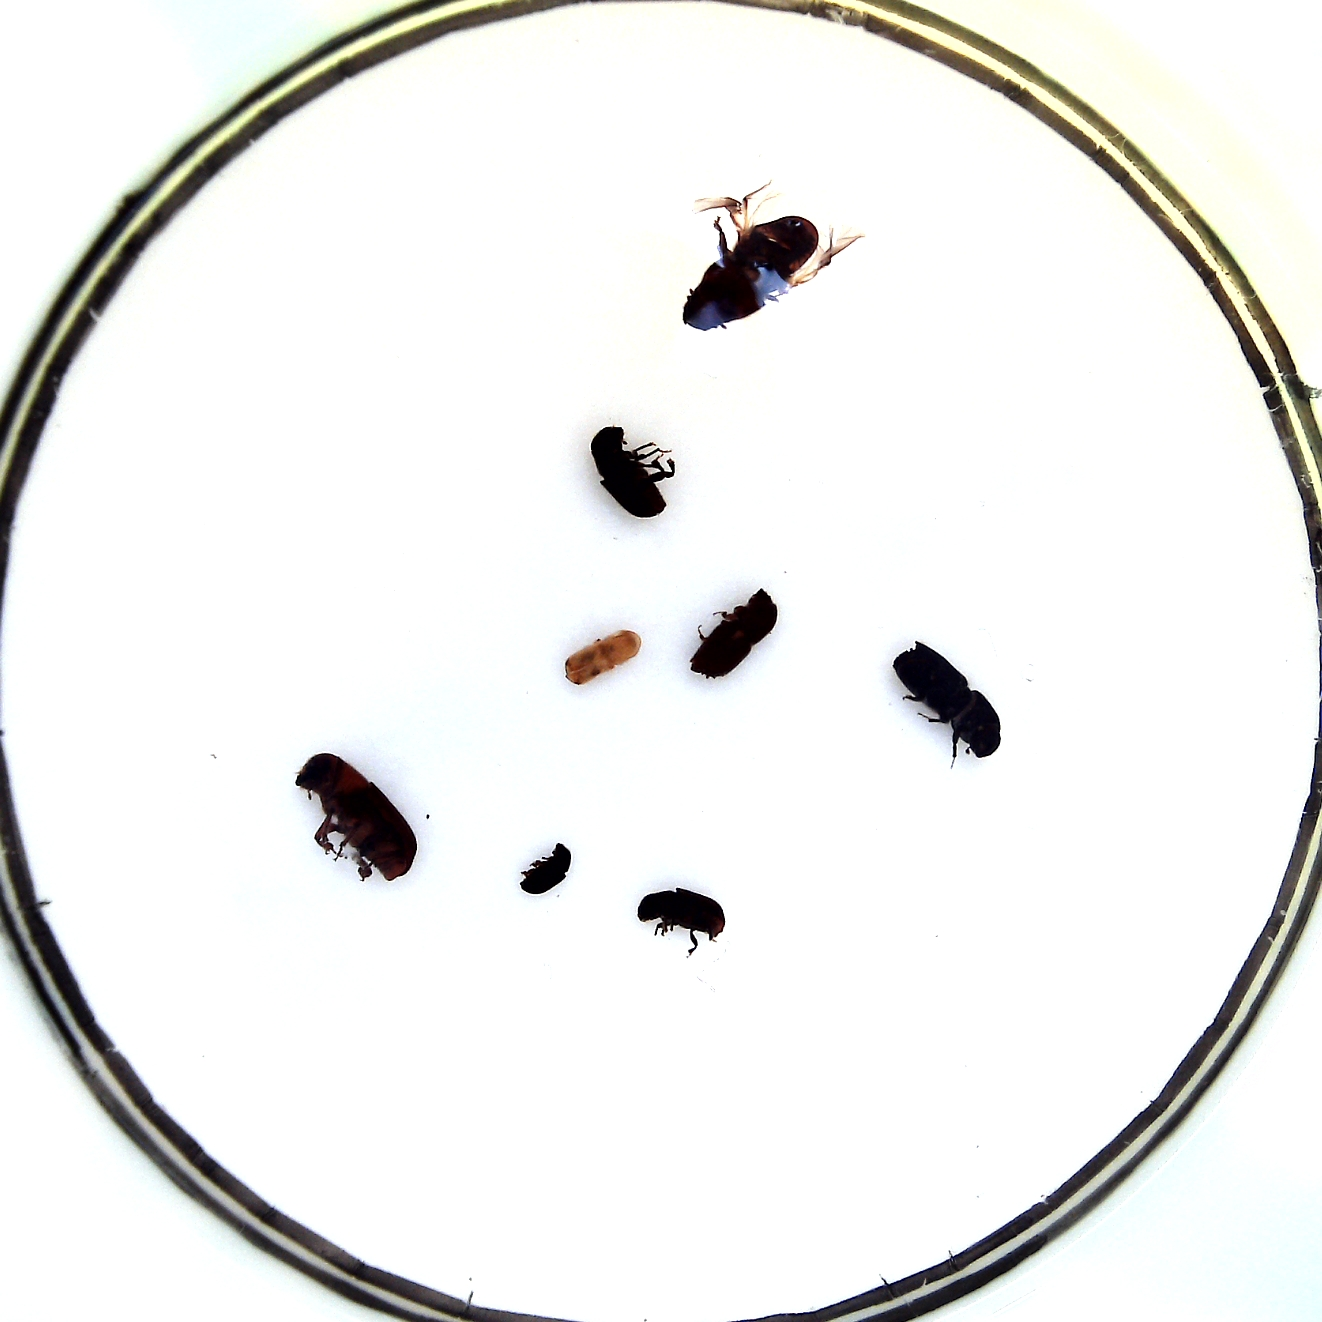Boerner: (893, 640, 1002, 769)
Leconte: (682, 215, 820, 333), (297, 754, 416, 883)
acuminatus: (565, 626, 640, 686)
armandi: (591, 424, 676, 518), (636, 885, 724, 958)
coleoptera: (518, 843, 571, 893)
linnaeus: (691, 590, 778, 682)
